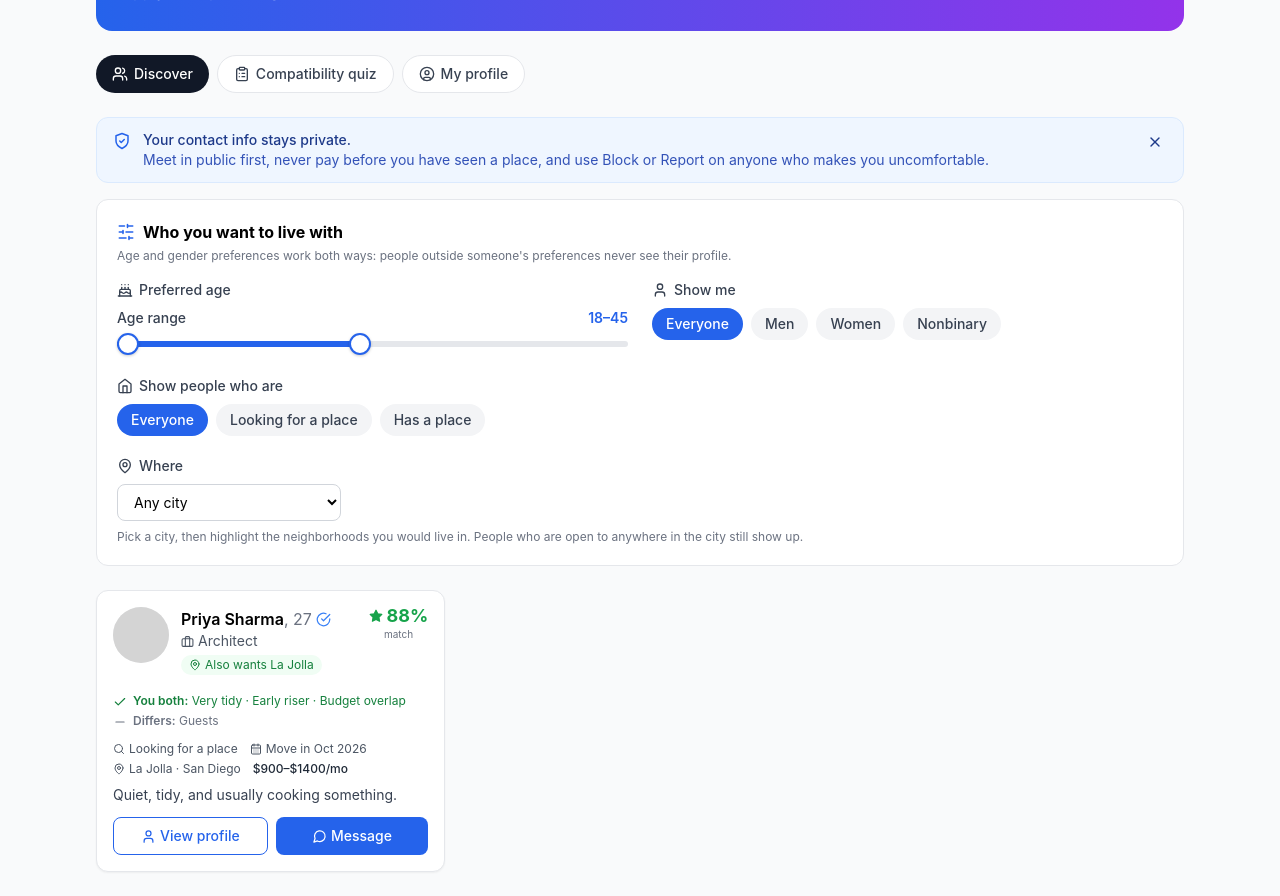
HousematesHub › invites a match to a new group from their profile
This screenshot has width=1280, height=896.
(page scrolled)
Expected: the heading "Priya Sharma, 27" is shown, [181,607,312,631]
What coordinates should you click on to do the following:
click the button named "view profile"
I would click on:
 (141, 635)
Its box is [96,590,445,872].
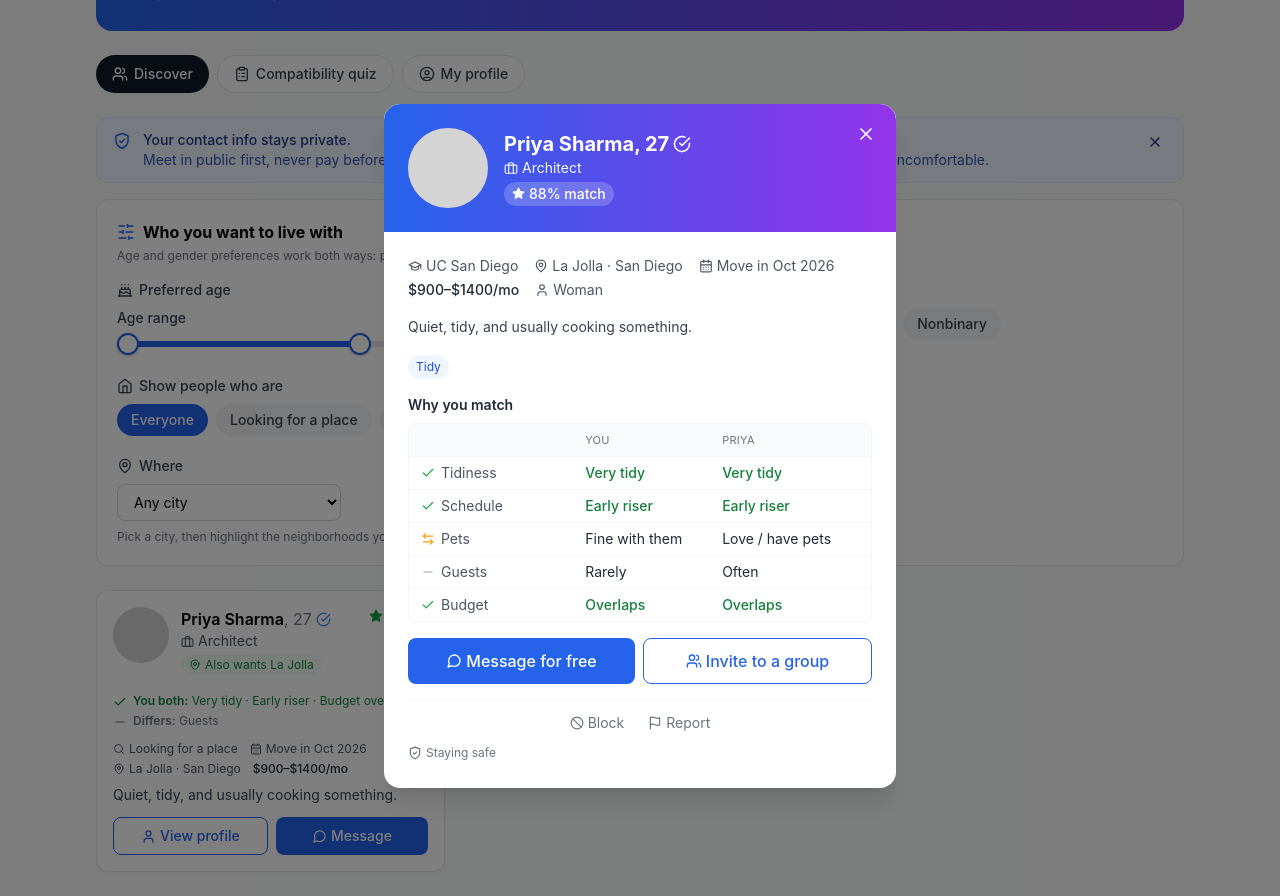
What coordinates should you click on to do the following:
click the button "Invite to a group"
I would click on:
 (758, 661)
Its box is [643,638,872,684].
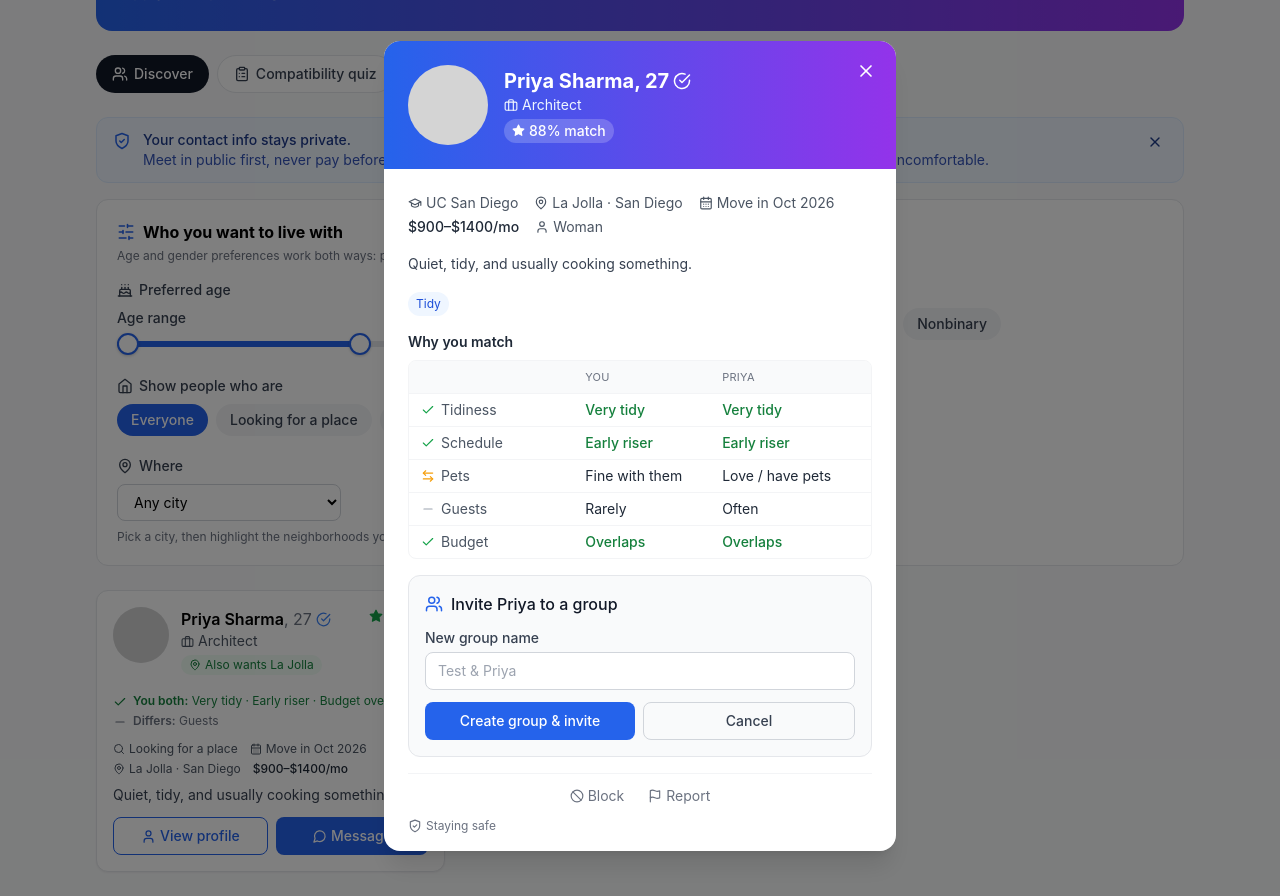
What coordinates should you click on to do the following:
click the button "Create group & invite"
I would click on:
 (530, 721)
Its box is [425,702,635,740].
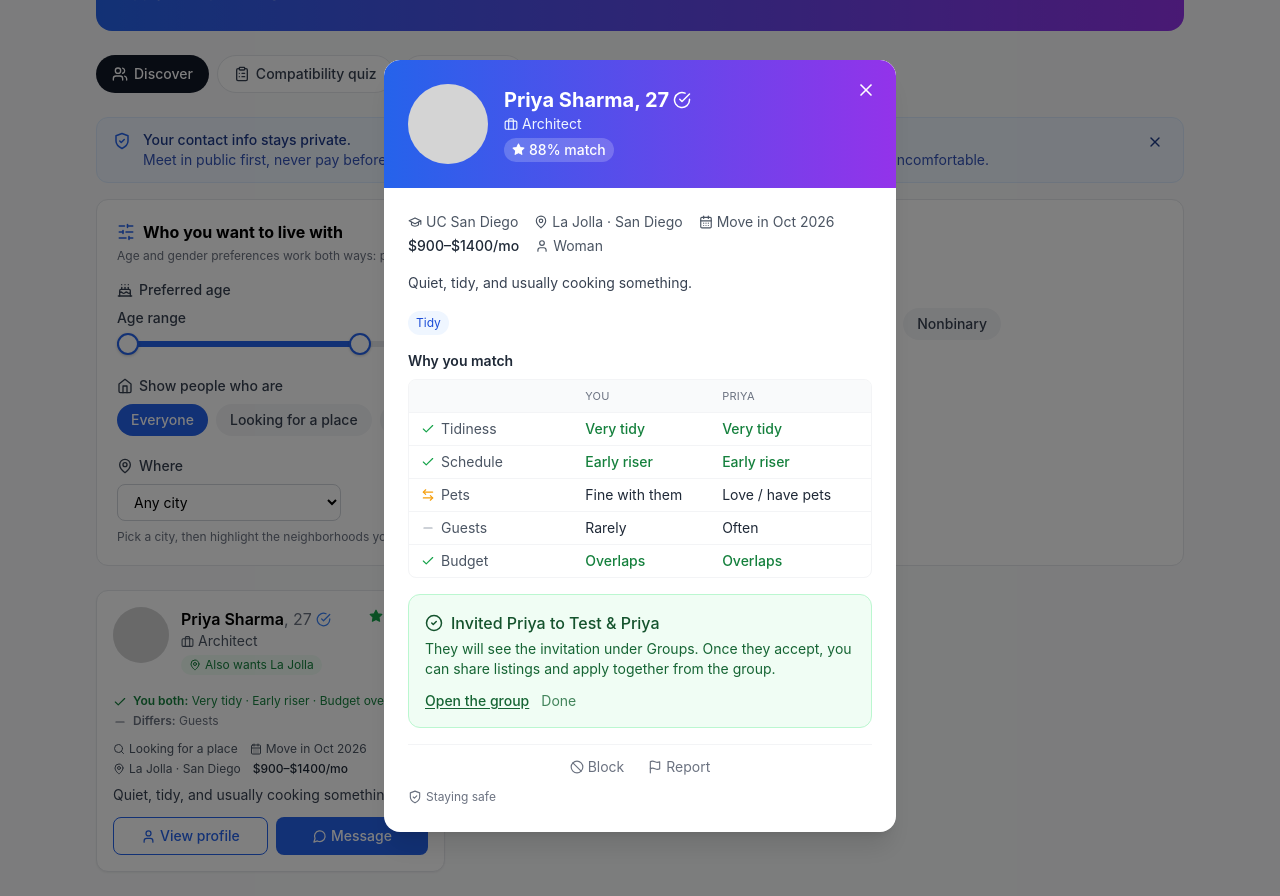
Expected: the text "Invited Priya to Test & Priya" is shown, [425,613,660,633]
